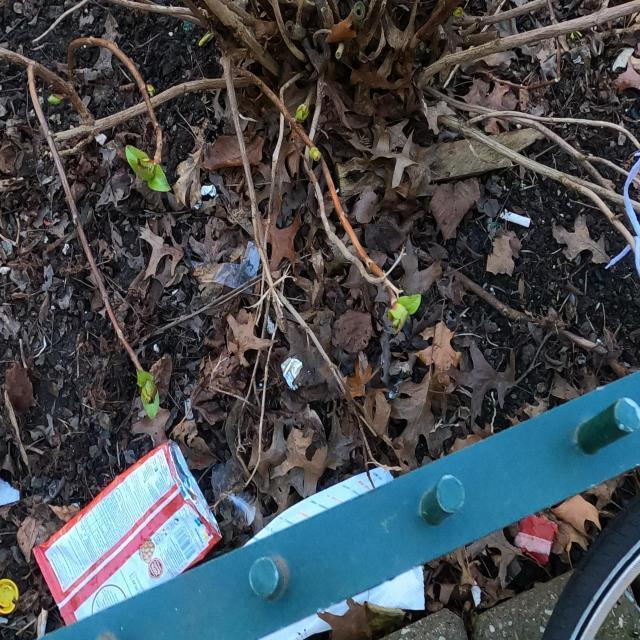Paper: (242, 464, 426, 640)
Plastic: (30, 438, 223, 627), (514, 514, 560, 568)
